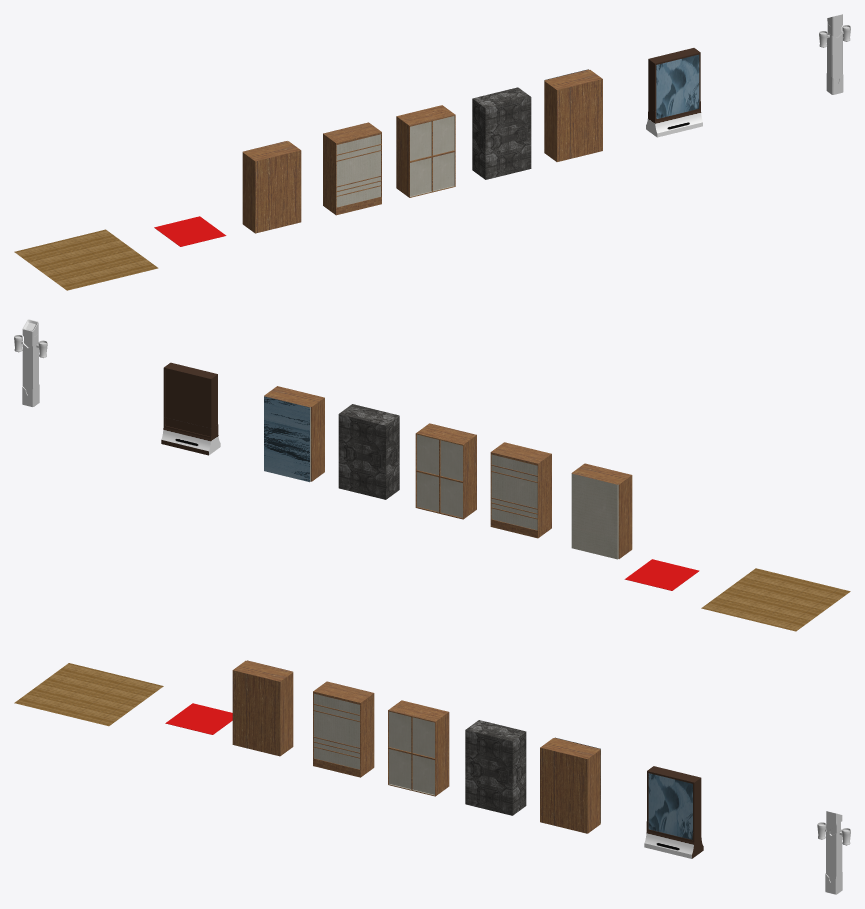
Rendered from Modules_Base.FBX.
The picture shows the model from 3 angles, top to bottom: view 1: azimuth 30°, elevation 25°; view 2: azimuth 150°, elevation 25°; view 3: azimuth 330°, elevation 25°; orthographic projection. The views are drawn at different scales.
Visible parts, largest first — view 1: Wall_4.0x2.0x6.0 (×5), Floor_8.0x8.0x0.25, Wall_4.0x1.69x6.0, es_cof_center_na_1x1_A_073, Carpet_4.0x4.0x0.25; view 2: Wall_4.0x2.0x6.0 (×5), Floor_8.0x8.0x0.25, Wall_4.0x1.69x6.0, es_cof_center_na_1x1_A_073, Carpet_4.0x4.0x0.25; view 3: Wall_4.0x2.0x6.0 (×5), Floor_8.0x8.0x0.25, Wall_4.0x1.69x6.0, es_cof_center_na_1x1_A_073, Carpet_4.0x4.0x0.25.
Part boxes in pixels (box(x1,y1,x2,y2)): Wall_4.0x2.0x6.0 (×5): box(242, 69, 602, 233); Floor_8.0x8.0x0.25: box(14, 229, 158, 290); Wall_4.0x1.69x6.0: box(646, 48, 702, 137); es_cof_center_na_1x1_A_073: box(826, 14, 843, 94); Carpet_4.0x4.0x0.25: box(154, 216, 226, 246); Wall_4.0x2.0x6.0 (×5): box(264, 386, 632, 559); Floor_8.0x8.0x0.25: box(701, 568, 850, 631); Wall_4.0x1.69x6.0: box(161, 362, 220, 455); es_cof_center_na_1x1_A_073: box(22, 319, 39, 406); Carpet_4.0x4.0x0.25: box(624, 559, 699, 590); Wall_4.0x2.0x6.0 (×5): box(232, 660, 600, 833); Floor_8.0x8.0x0.25: box(14, 663, 163, 726); Wall_4.0x1.69x6.0: box(644, 766, 703, 858); es_cof_center_na_1x1_A_073: box(825, 811, 842, 894); Carpet_4.0x4.0x0.25: box(165, 703, 232, 734).
Bounding box in the file's own units: 69.28 × 6.5 × 8.
